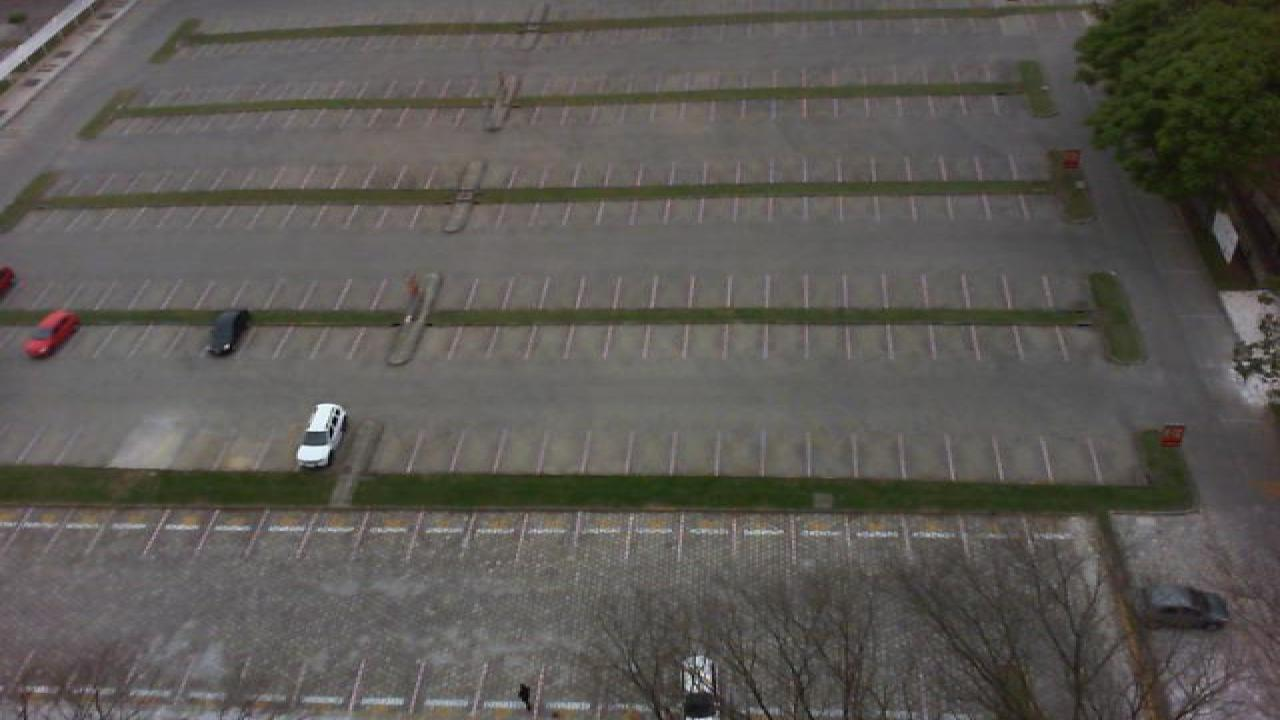Car: (1136, 584, 1232, 630), (294, 402, 350, 470), (680, 653, 722, 720), (24, 309, 80, 359), (204, 307, 254, 357), (0, 266, 16, 302)
